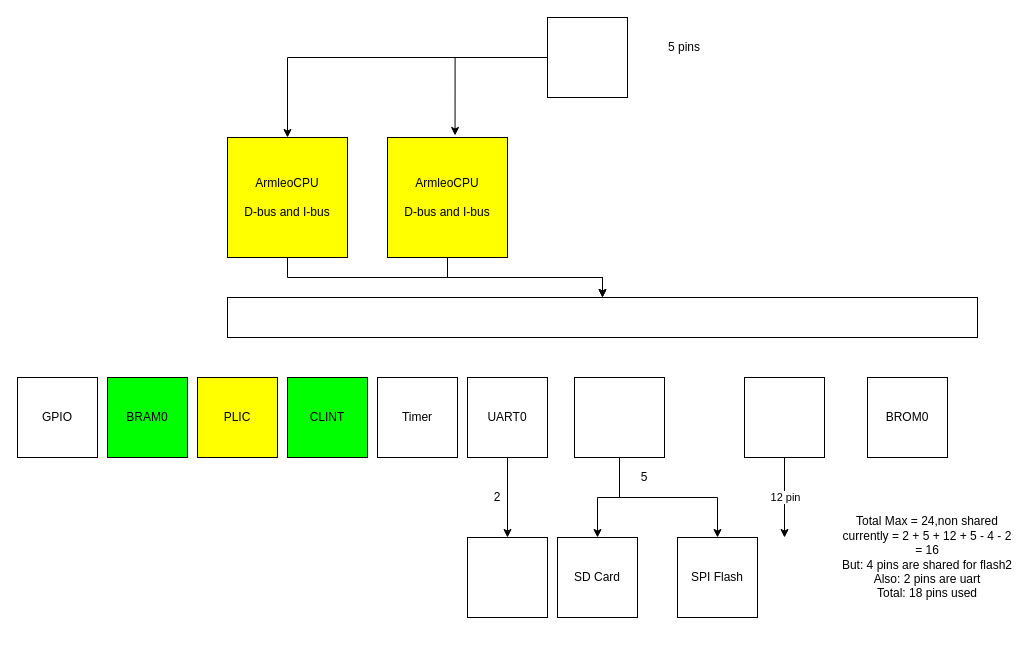
Some shapes in this 1035 by 645 pixel diagram are drawn without their labels. The shapes that lost their labels are listed below. From the top down, each one's centre as x and y in pixels, then its label:
At pixel 587 57: "JTAG".
At pixel 602 317: "CROSSBAR".
At pixel 619 417: "SPI0 + MMIO Flash".
At pixel 784 417: "CHIP2CHIP".
At pixel 507 577: "mgmt_uart".
